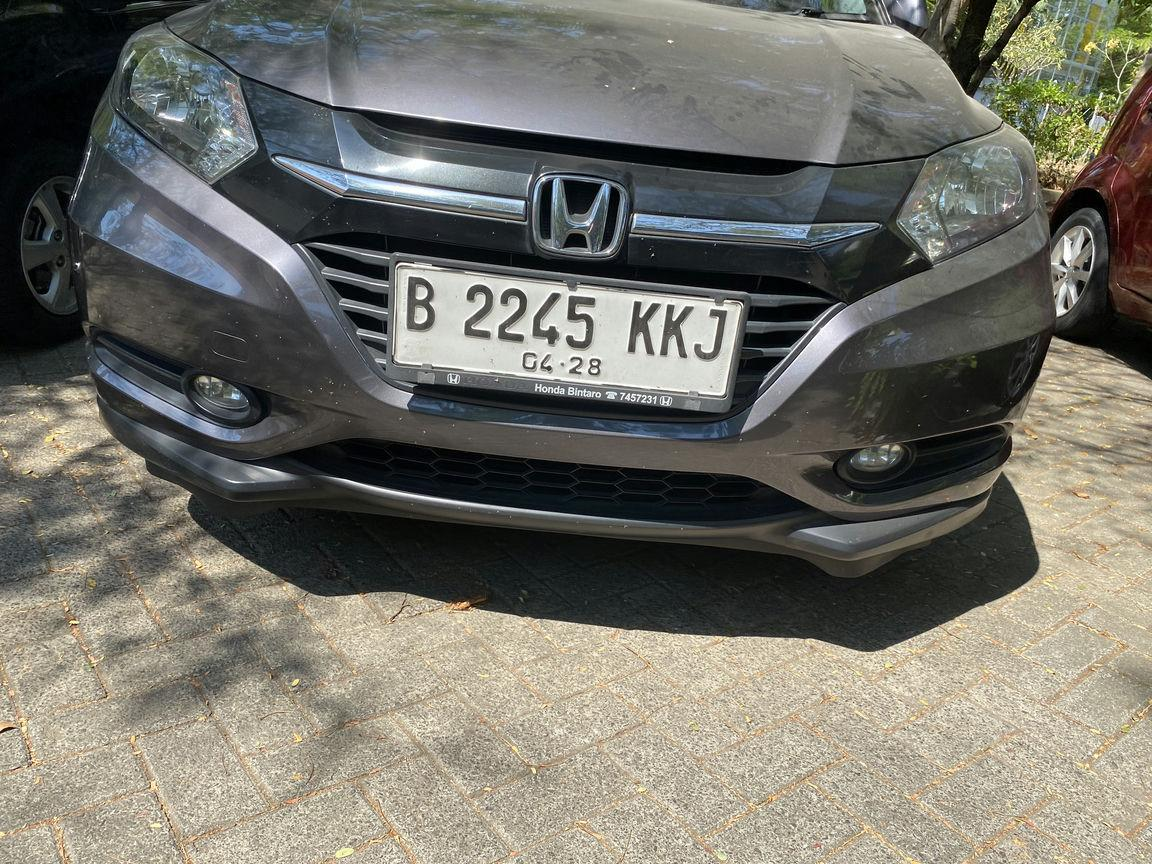plat: (387, 261, 747, 412)
